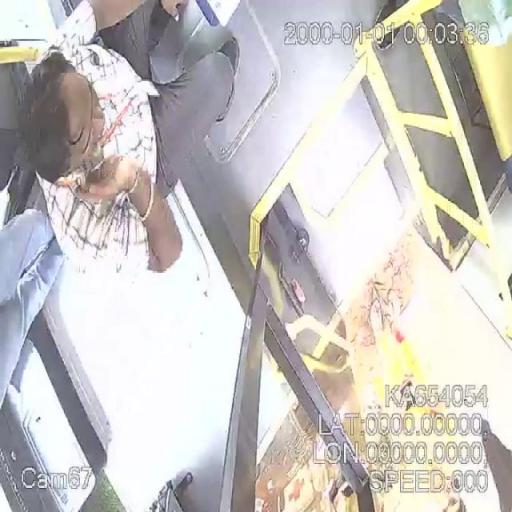persona: (13, 1, 241, 276)
